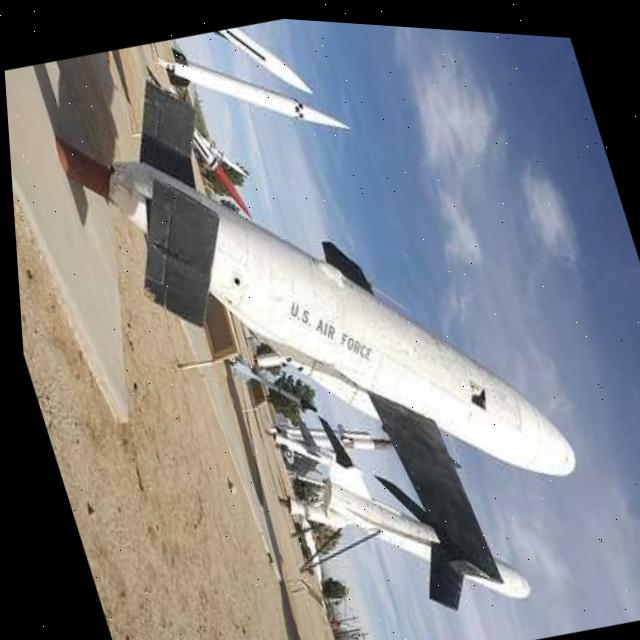missile: (66, 63, 590, 593), (294, 439, 524, 636), (156, 21, 353, 171)
